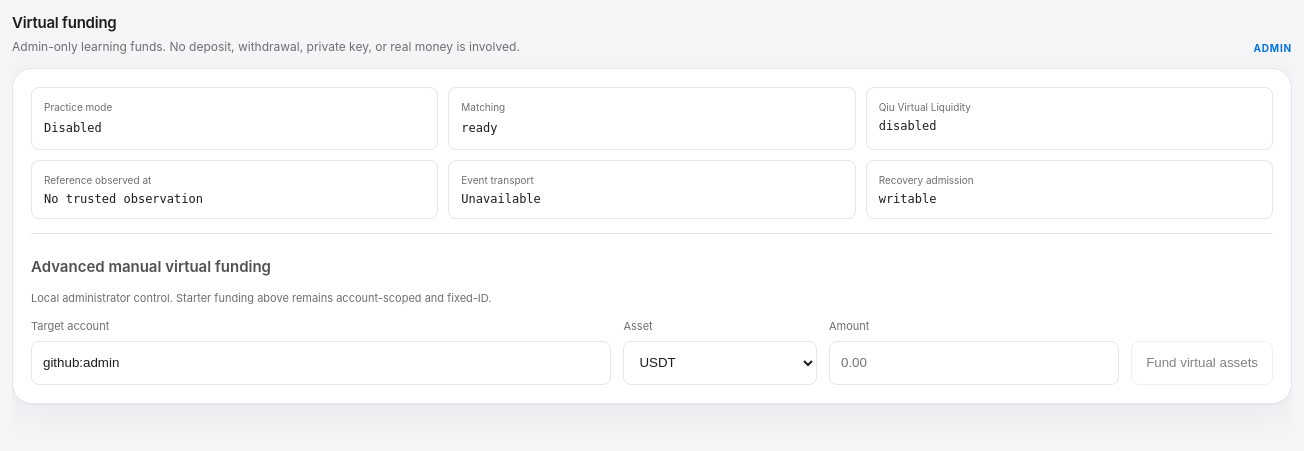
it: System virtual funding control › does not expose an unknown backend failure to the administrator
Type "100" into the field named "amount" at (974, 362), box [829, 340, 1119, 384]
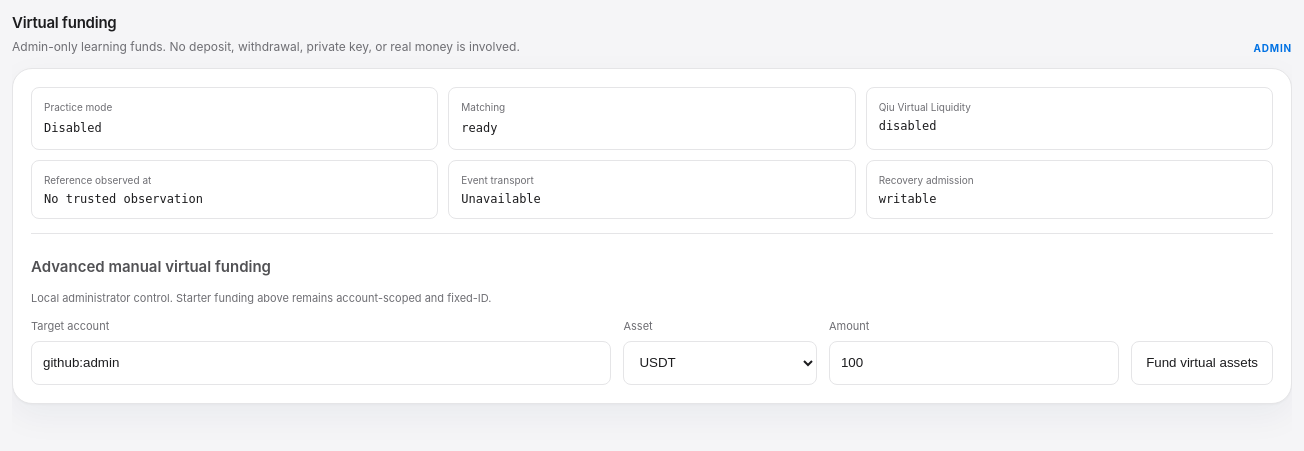
Click the button with test id "funding-submit" at (1202, 362), box [1131, 340, 1273, 384]
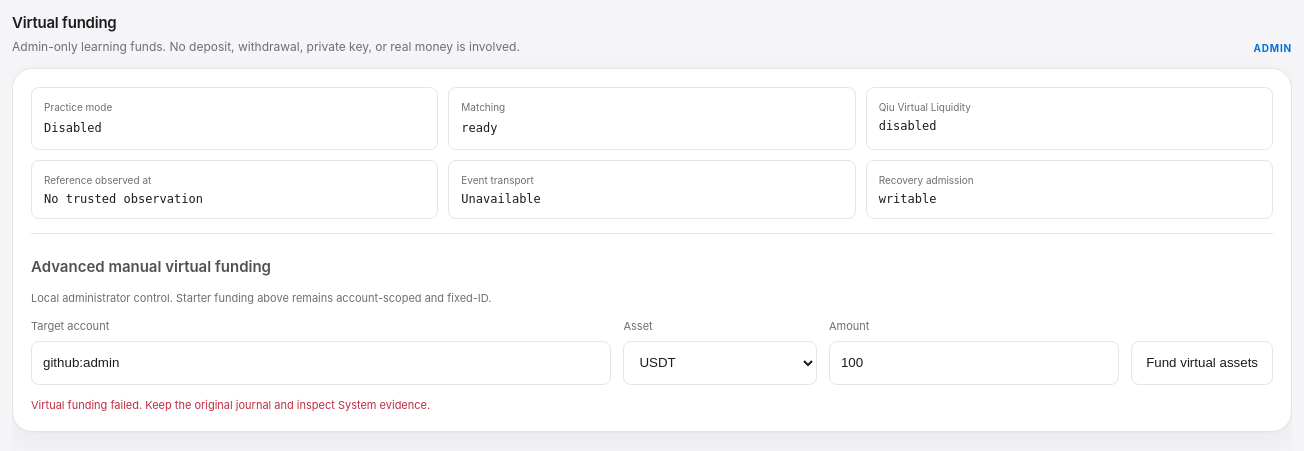
Expected: the text "Virtual funding failed. Keep the original journal and inspect System evidence." is shown, [31, 398, 430, 412]
